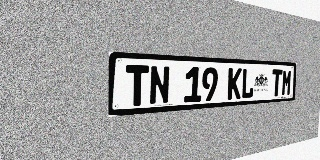1: (184, 66, 202, 103)
9: (202, 67, 218, 101)
K: (227, 68, 242, 100)
L: (241, 68, 255, 99)
M: (281, 69, 292, 96)
N: (149, 65, 170, 105)
T: (126, 65, 149, 107), (271, 69, 283, 97)
